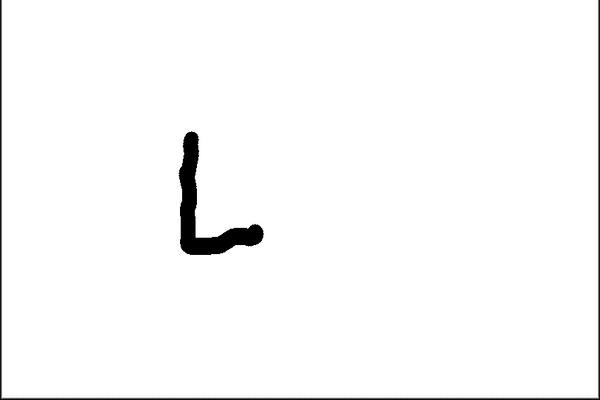L: (167, 125, 270, 262)
